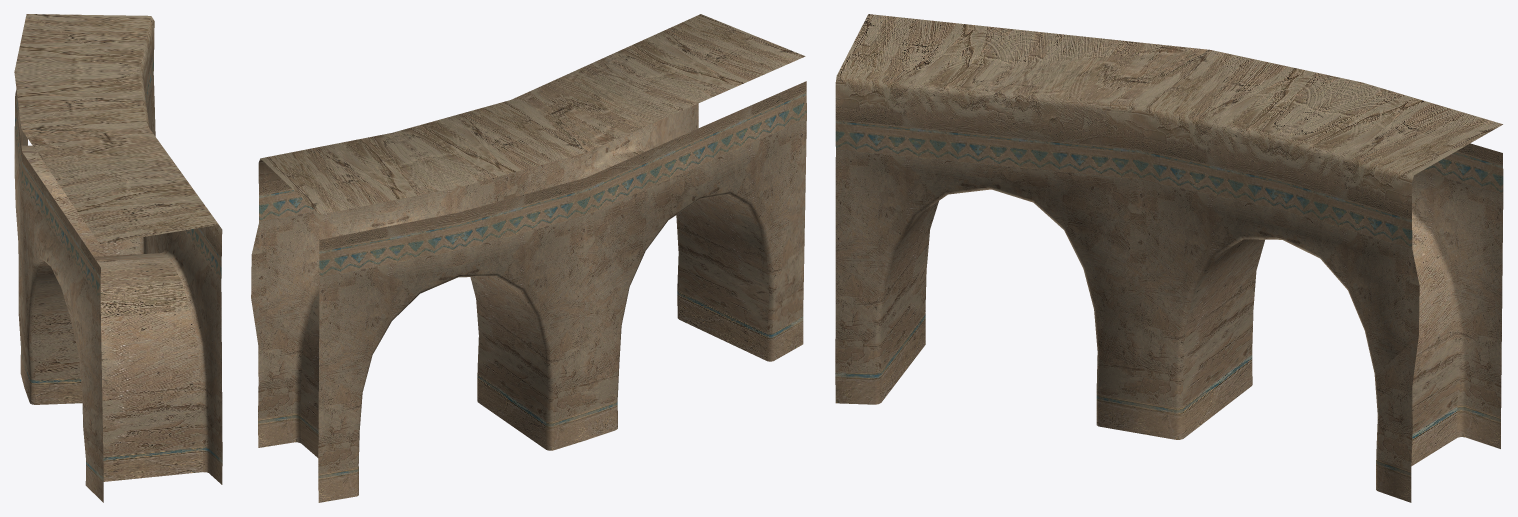
The model's file is wall2.fbx.
The picture shows the model from 3 angles, left to right: view 1: azimuth 30°, elevation 25°; view 2: azimuth 150°, elevation 25°; view 3: azimuth 270°, elevation 25°; orthographic projection. The views are drawn at different scales.
Visible parts, largest first — view 1: LV_Arena_Object_Wall01_SM_LSJ; view 2: LV_Arena_Object_Wall01_SM_LSJ; view 3: LV_Arena_Object_Wall01_SM_LSJ.
Part boxes in pixels (x1,y1,x2,y2): LV_Arena_Object_Wall01_SM_LSJ: (14, 14, 222, 502); LV_Arena_Object_Wall01_SM_LSJ: (251, 14, 806, 502); LV_Arena_Object_Wall01_SM_LSJ: (835, 14, 1503, 502).
Size of the model in its own units: 3.25 by 2.94 by 5.45.
